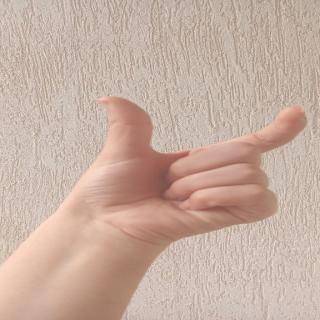NOON: (72, 78, 313, 245)
